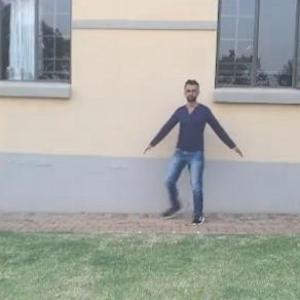land: (145, 83, 242, 232)
